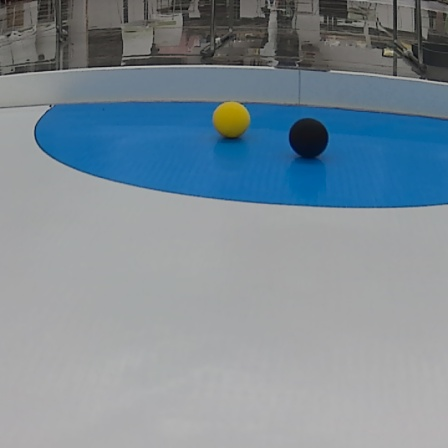black: (290, 120, 332, 159)
blue_base: (33, 104, 448, 213)
yellow: (214, 104, 250, 136)
